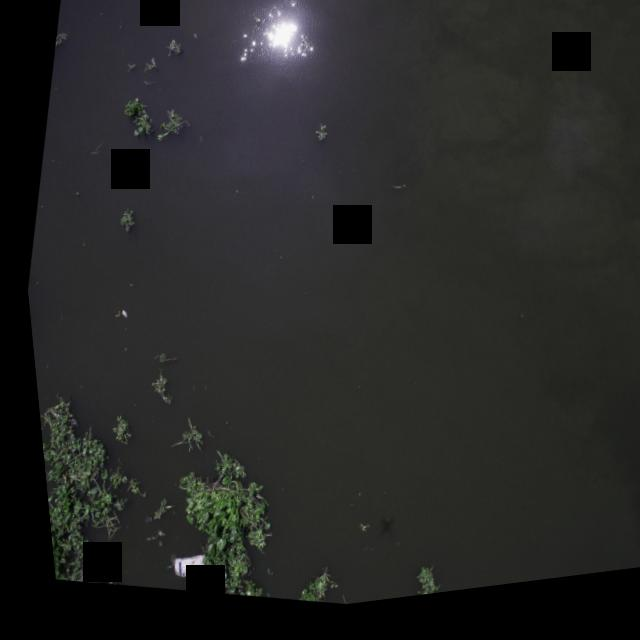plastic: (150, 547, 202, 592), (110, 308, 127, 328), (81, 0, 101, 4)
